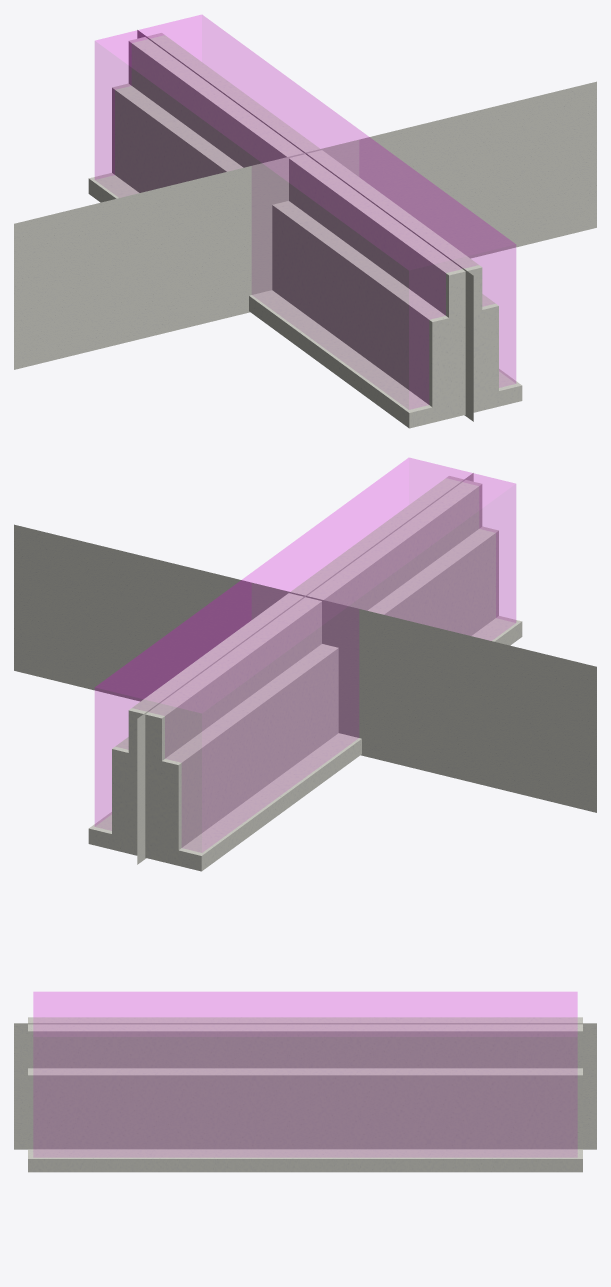
Rendered from krail_white_3m.dae.
3 renders of one model, top to bottom at view 1: azimuth 30°, elevation 25°; view 2: azimuth 150°, elevation 25°; view 3: azimuth 270°, elevation 25°, orthographic. The views are drawn at different scales.
Parts seen in each view (by area): view 1: krail_white_3m_a50, Colmesh_krail-1, krail_white_3m_a800, krail_white_3m_a200; view 2: krail_white_3m_a50, Colmesh_krail-1, krail_white_3m_a800, krail_white_3m_a200; view 3: krail_white_3m_a800, Colmesh_krail-1, krail_white_3m_a200, krail_white_3m_a50.
Part boxes in pixels (bbox=[...]): krail_white_3m_a50: bbox=[14, 30, 596, 421]; Colmesh_krail-1: bbox=[95, 15, 515, 408]; krail_white_3m_a800: bbox=[88, 33, 522, 428]; krail_white_3m_a200: bbox=[116, 175, 498, 407]; krail_white_3m_a50: bbox=[14, 473, 596, 864]; Colmesh_krail-1: bbox=[95, 458, 515, 851]; krail_white_3m_a800: bbox=[88, 476, 522, 871]; krail_white_3m_a200: bbox=[112, 527, 498, 849]; krail_white_3m_a800: bbox=[28, 1017, 582, 1172]; Colmesh_krail-1: bbox=[33, 992, 577, 1156]; krail_white_3m_a200: bbox=[28, 1068, 580, 1149]; krail_white_3m_a50: bbox=[14, 1023, 596, 1149].
Bounding box in the file's own units: 3.15 × 3.15 × 0.8074.
2 materials, 1 textured.
